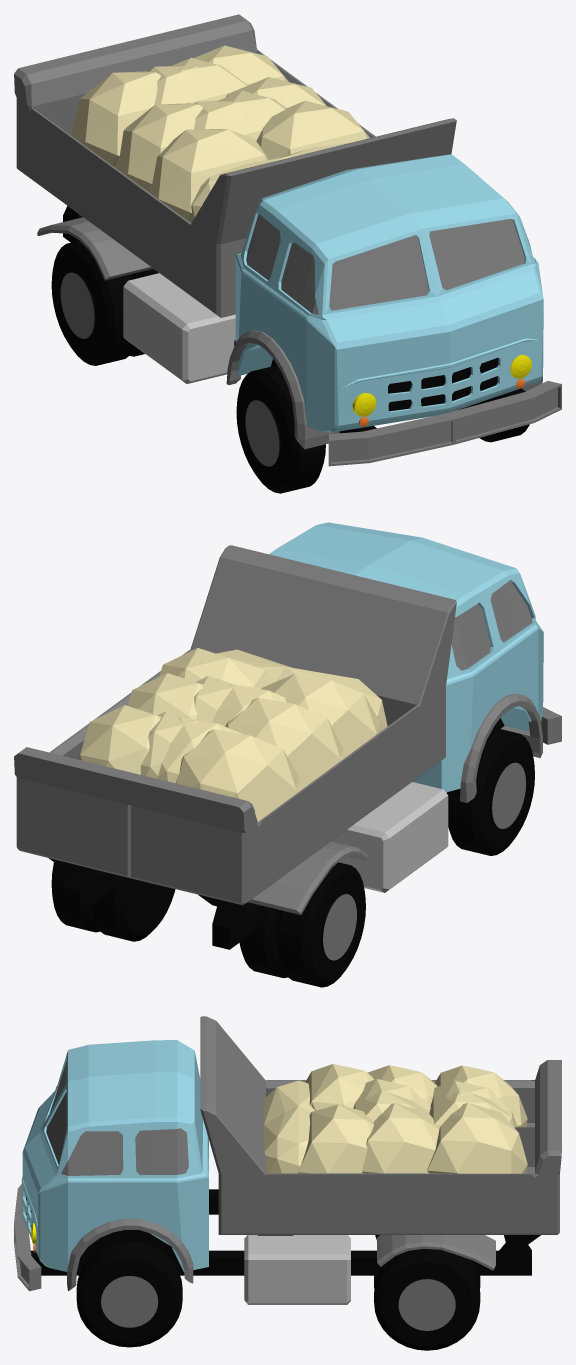
The model's file is Пробка Авто 5.fbx.
3 renders of one model, top to bottom at view 1: azimuth 30°, elevation 25°; view 2: azimuth 150°, elevation 25°; view 3: azimuth 270°, elevation 25°, orthographic. The views are drawn at different scales.
Parts seen in each view (by area): view 1: Cube; view 2: Cube; view 3: Cube.
Part boxes in pixels (left/top/right/bottom): Cube: left=14, top=14, right=561, bottom=493; Cube: left=14, top=522, right=561, bottom=987; Cube: left=14, top=1016, right=561, bottom=1350.
Size of the model in its own units: 137 by 138 by 291.
